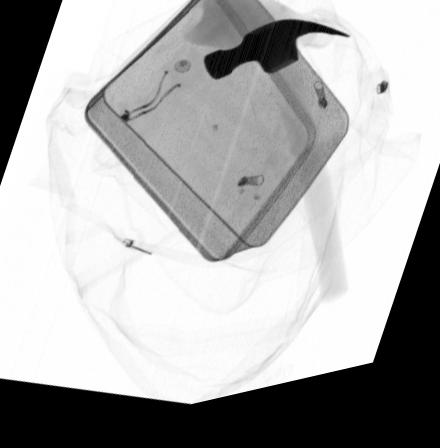Hammer: (202, 29, 353, 316)
